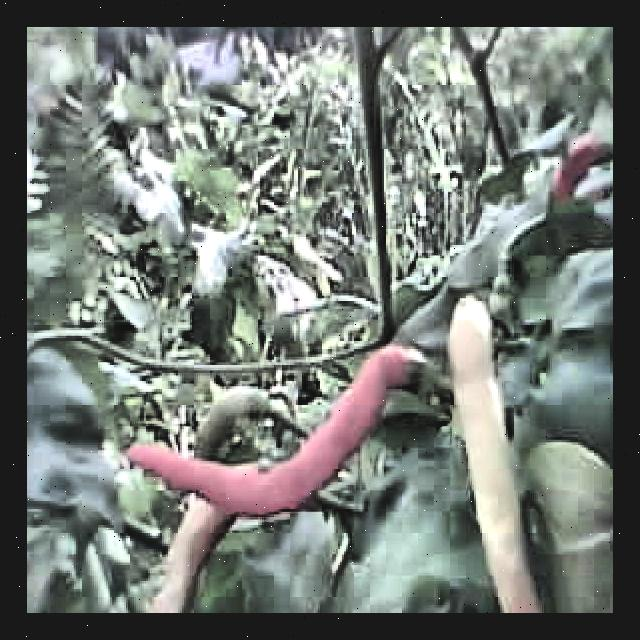Cabai: (135, 357, 420, 513), (450, 298, 551, 613), (548, 123, 613, 215)
